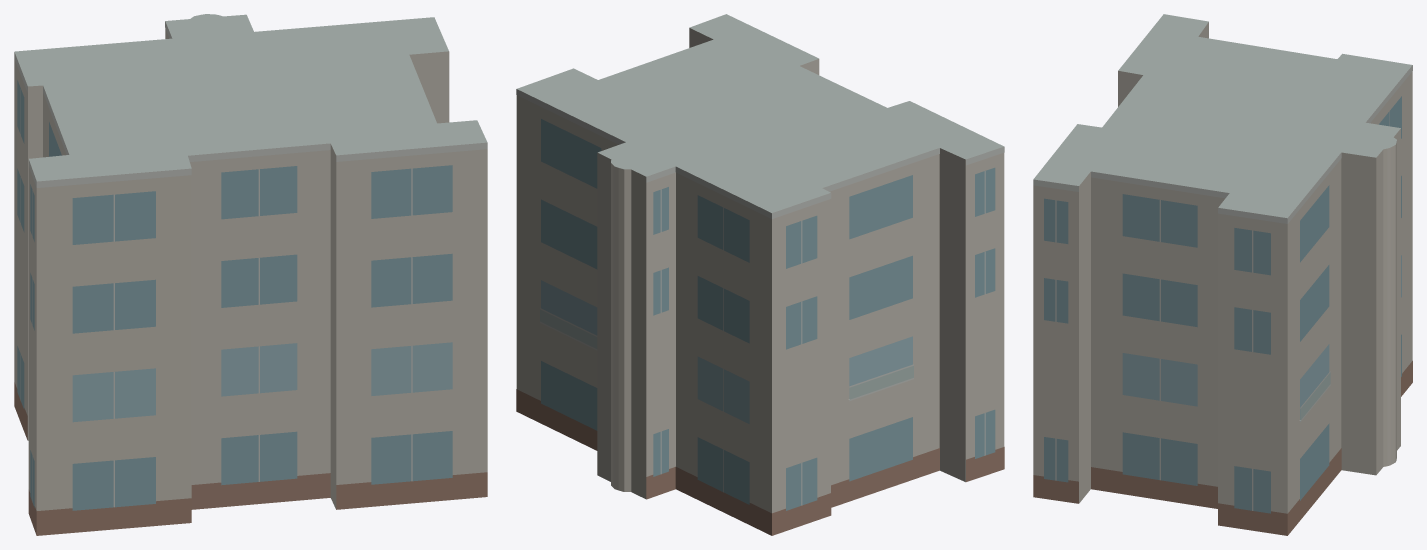
Rendered from survey-upis-32709030.glb.
3 renders of one model, left to right at view 1: azimuth 30°, elevation 25°; view 2: azimuth 150°, elevation 25°; view 3: azimuth 270°, elevation 25°, orthographic. The views are drawn at different scales.
Parts seen in each view (by area): view 1: survey-upis-32709030.tmp; view 2: survey-upis-32709030.tmp; view 3: survey-upis-32709030.tmp.
Boxes of the visible parts, x1,y1,x2,y2 form: survey-upis-32709030.tmp: [14, 14, 487, 535]; survey-upis-32709030.tmp: [516, 14, 1004, 535]; survey-upis-32709030.tmp: [1033, 14, 1412, 535].
Size of the model in its own units: 18.04 by 13.08 by 14.17.
